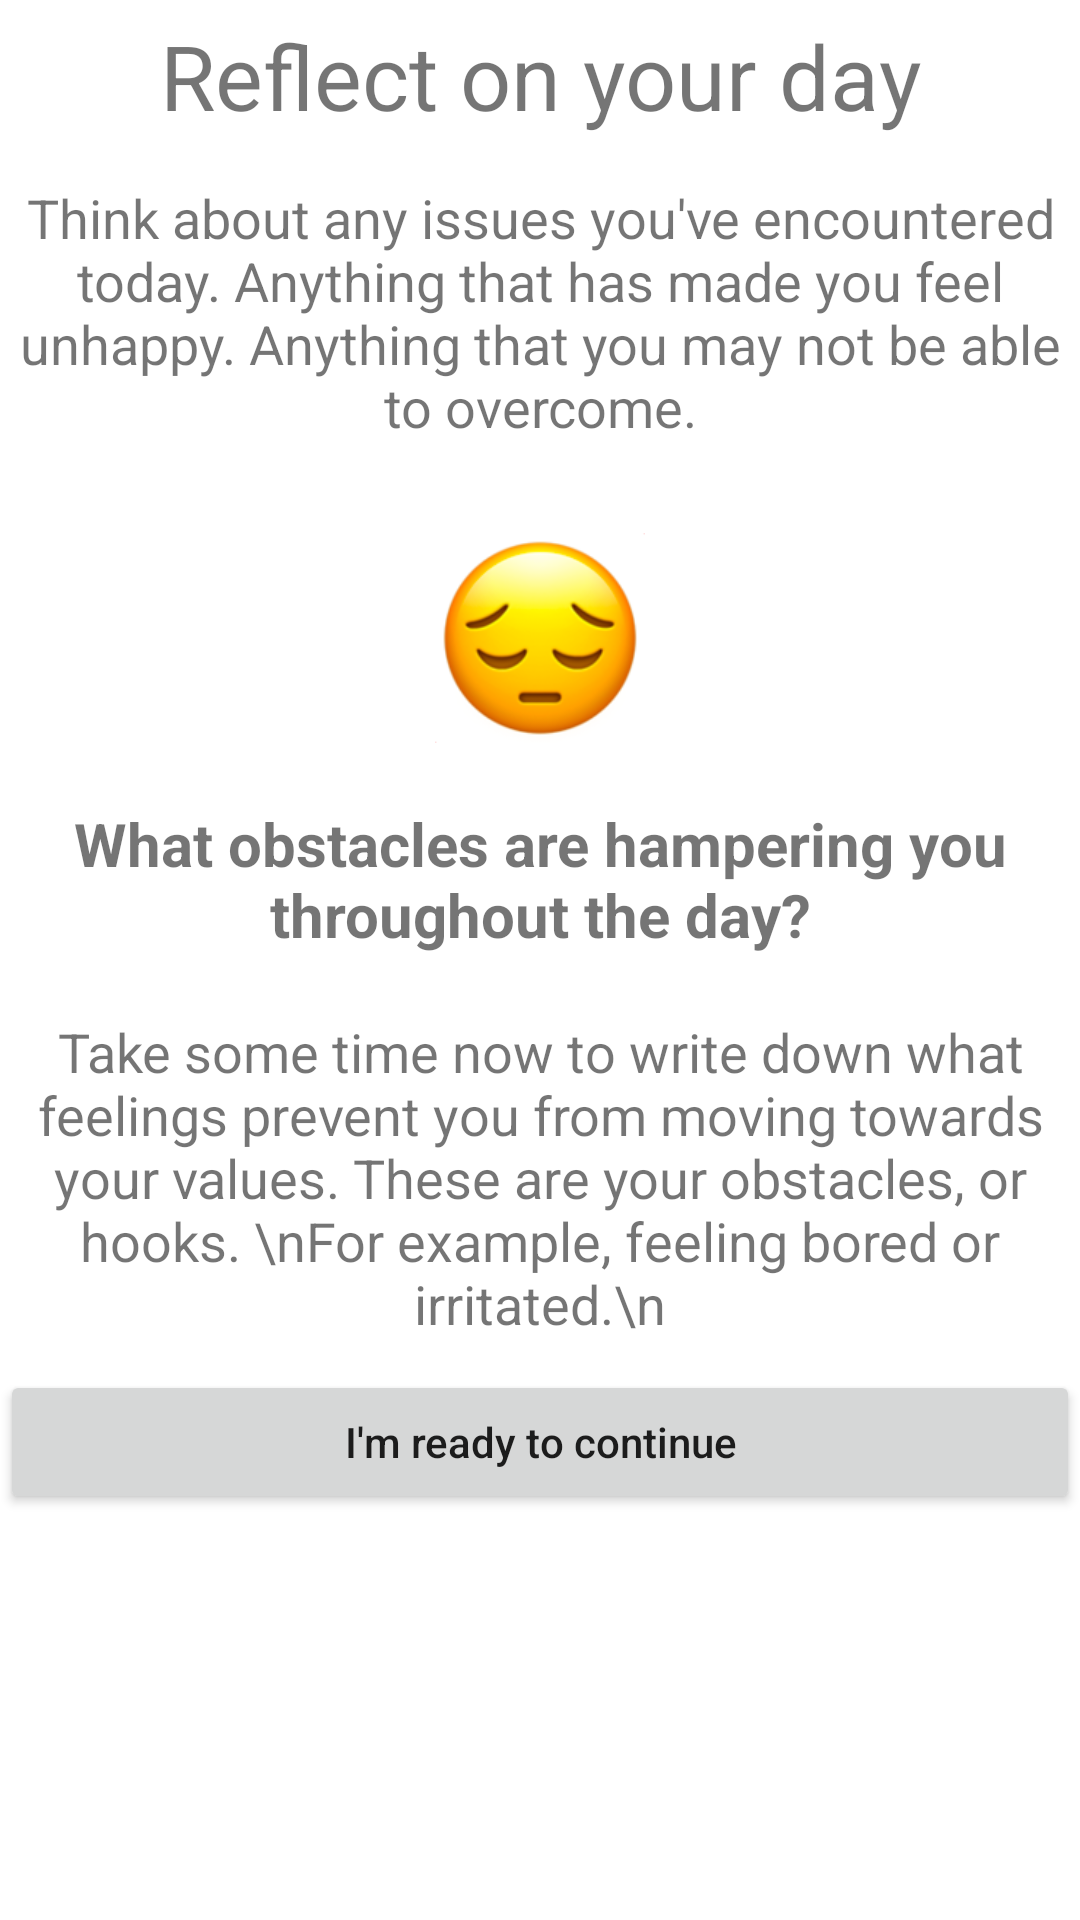

Screen size 1080w x 1920h. Icon name, then its box in pixels as {"left": x1, "top": y1, "right": x2, "bottom": y2}:
sad: {"left": 435, "top": 533, "right": 645, "bottom": 743}
